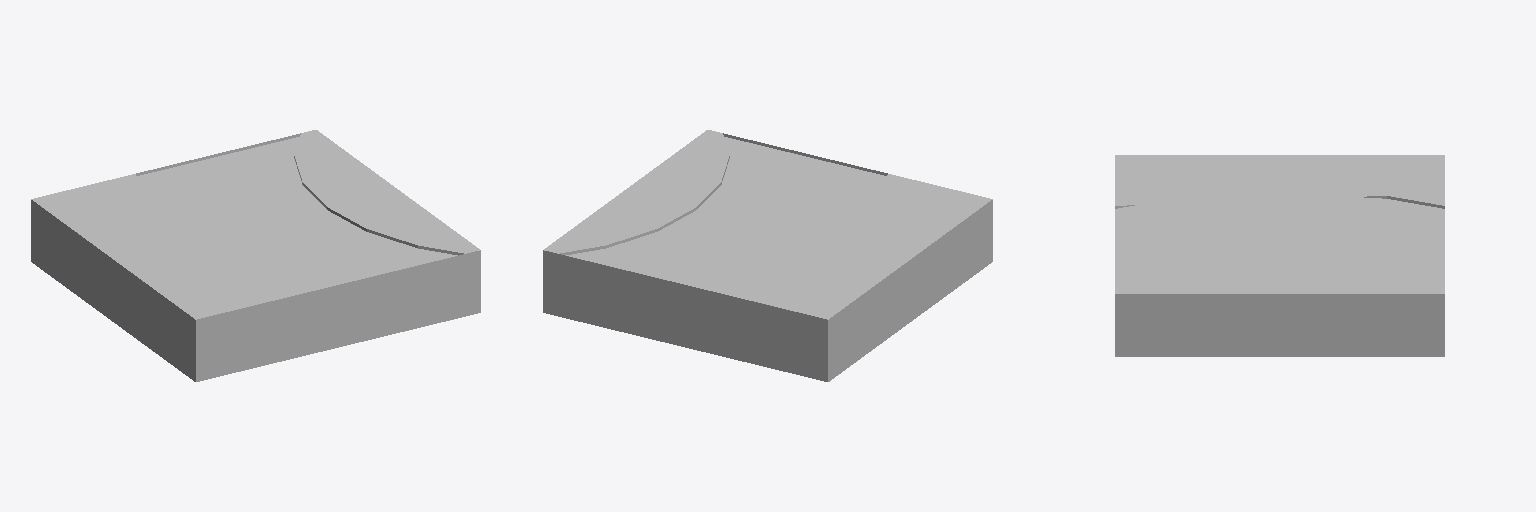
The model's file is roadTile_067.obj.
3 views of the same model, side by side, from view 1: azimuth 30°, elevation 25°; view 2: azimuth 150°, elevation 25°; view 3: azimuth 270°, elevation 25° (orthographic).
Parts seen in each view (by area): view 1: Mesh1 Group1 Model; view 2: Mesh1 Group1 Model; view 3: Mesh1 Group1 Model.
Boxes of the visible parts, box(x1,y1,x2,y2) form: Mesh1 Group1 Model: box(31, 130, 480, 381); Mesh1 Group1 Model: box(543, 130, 992, 381); Mesh1 Group1 Model: box(1115, 155, 1444, 356).
Size of the model in its own units: 3 by 0.63 by 3.